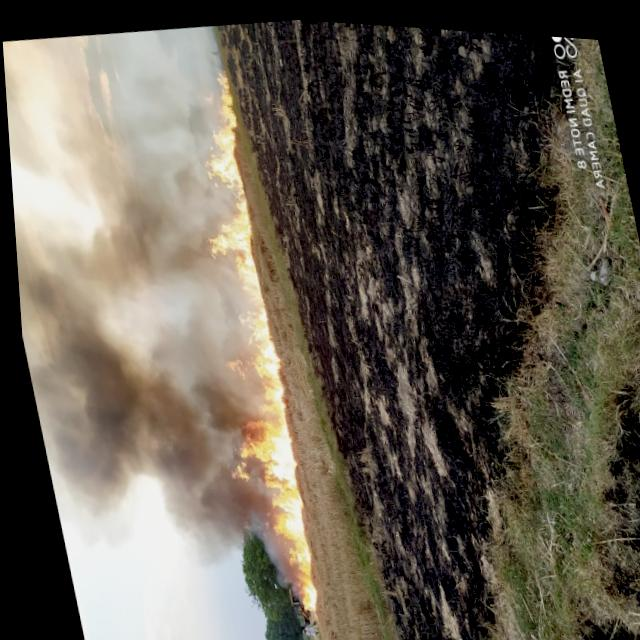helmet: (150, 61, 329, 622)
no_helmet: (1, 17, 277, 595)
